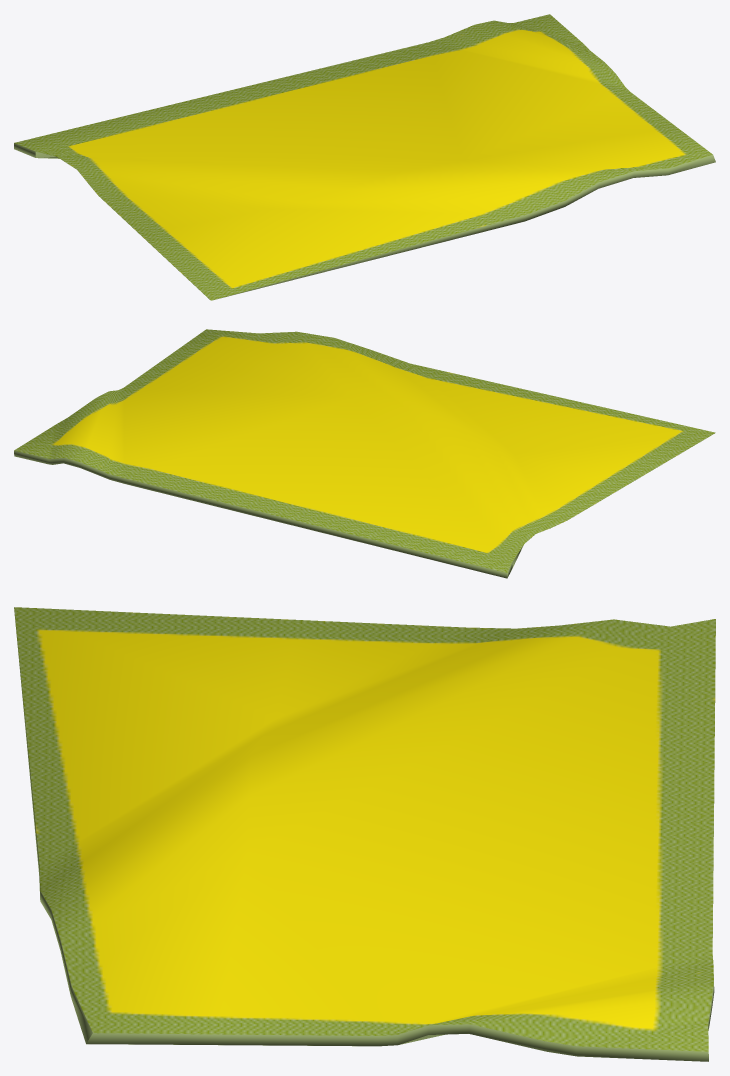
Rendered from SM_Cover_02.fbx.
The picture shows the model from 3 angles, top to bottom: view 1: azimuth 30°, elevation 25°; view 2: azimuth 150°, elevation 25°; view 3: azimuth 270°, elevation 25°; orthographic projection. The views are drawn at different scales.
Visible parts, largest first — view 1: SM_Cover_02; view 2: SM_Cover_02; view 3: SM_Cover_02.
Boxes of the visible parts, x1,y1,x2,y2 form: SM_Cover_02: (14, 14, 715, 300); SM_Cover_02: (14, 329, 715, 578); SM_Cover_02: (14, 607, 715, 1061).
Size of the model in its own units: 321 by 214 by 11.62.
Materials: 1 (1 with a texture image).
